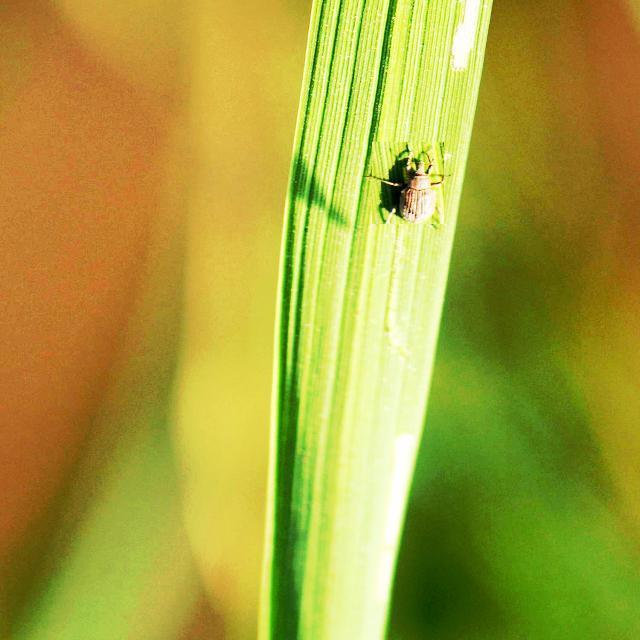rice-bug: (372, 142, 444, 224)
